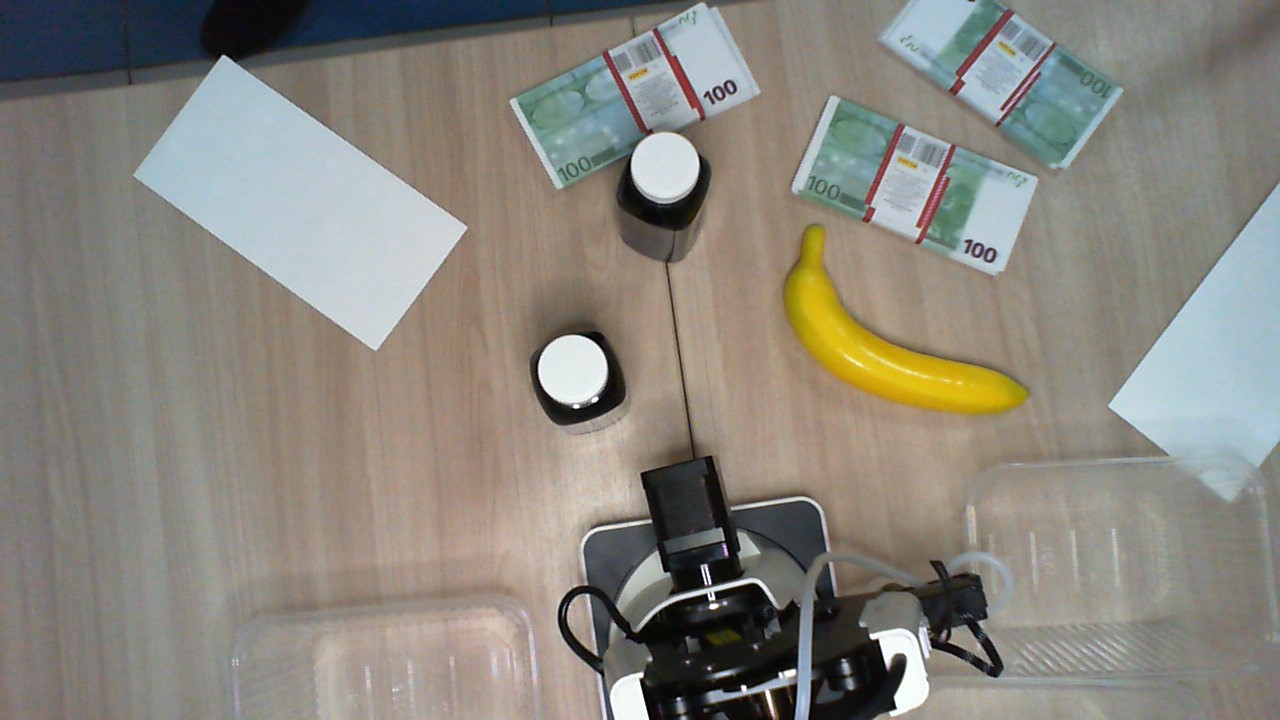banana: (785, 225, 1033, 419)
bottle: (624, 126, 713, 227), (532, 330, 624, 425)
convert: (129, 53, 470, 349), (1110, 188, 1280, 502)
money: (510, 1, 763, 193), (792, 93, 1036, 276), (877, 1, 1121, 167)
